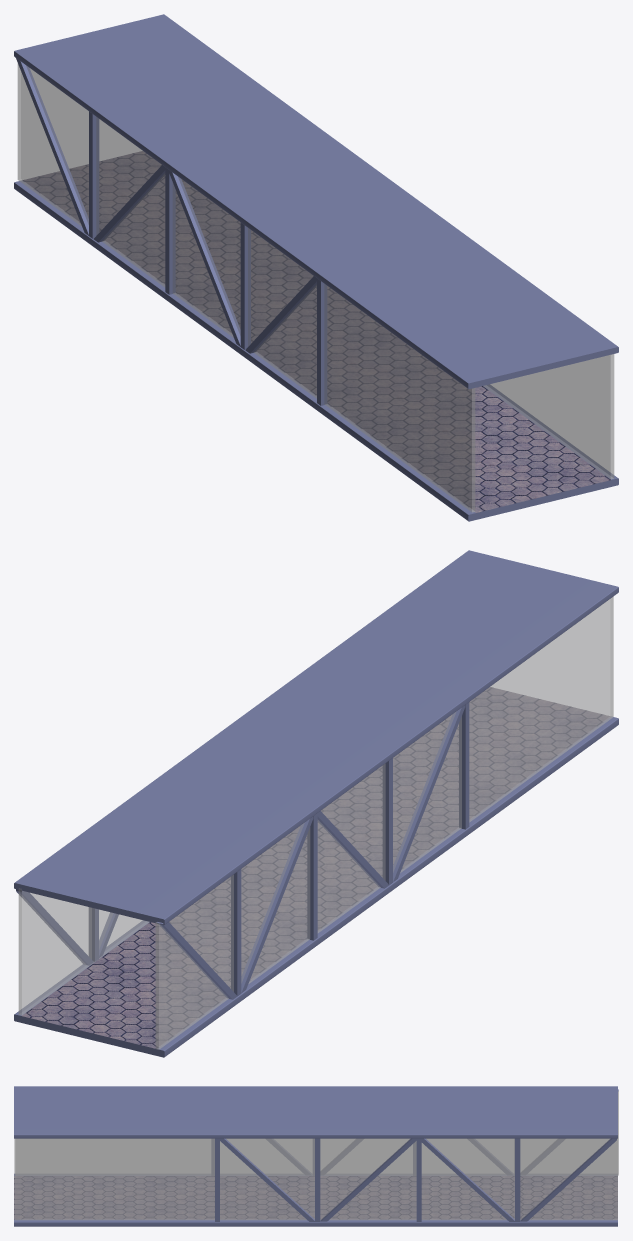
The model's file is Skywalk1.fbx.
The picture shows the model from 3 angles, top to bottom: view 1: azimuth 30°, elevation 25°; view 2: azimuth 150°, elevation 25°; view 3: azimuth 270°, elevation 25°; orthographic projection. The views are drawn at different scales.
Visible parts, largest first — view 1: pCube2, pCube1, pCube23, pCube3, pCube4, pCube25, pCube28, pCube26, pCube5, pCube24, pCube6, pCube27; view 2: pCube2, pCube1, pCube23, pCube3, pCube6, pCube27, pCube5, pCube26, pCube28, pCube24, pCube4, pCube25 (+1 smaller); view 3: pCube3, pCube2, pCube1, pCube23, pCube10, pCube14, pCube8, pCube12, pCube9, pCube11, pCube13, pCube7 (+4 smaller).
Part boxes in pixels (x1,y1,x2,y2): pCube2: [14, 14, 618, 389]; pCube1: [14, 151, 618, 521]; pCube23: [17, 63, 475, 512]; pCube3: [484, 354, 614, 479]; pCube4: [16, 58, 88, 235]; pCube25: [169, 170, 240, 346]; pCube28: [317, 278, 327, 405]; pCube26: [240, 222, 250, 349]; pCube5: [89, 111, 99, 238]; pCube24: [165, 167, 175, 294]; pCube6: [93, 165, 165, 242]; pCube27: [245, 276, 316, 353]; pCube2: [14, 550, 618, 925]; pCube1: [14, 687, 618, 1057]; pCube23: [155, 596, 613, 1049]; pCube3: [18, 888, 148, 1015]; pCube6: [241, 816, 313, 992]; pCube27: [393, 705, 465, 881]; pCube5: [231, 869, 241, 996]; pCube26: [382, 758, 392, 885]; pCube28: [459, 702, 469, 829]; pCube24: [307, 813, 317, 940]; pCube4: [157, 922, 237, 999]; pCube25: [317, 811, 388, 888]; pCube3: [14, 1138, 617, 1220]; pCube2: [14, 1086, 617, 1138]; pCube1: [14, 1173, 617, 1226]; pCube23: [15, 1091, 618, 1175]; pCube10: [320, 1138, 416, 1221]; pCube14: [520, 1138, 616, 1221]; pCube8: [220, 1138, 314, 1221]; pCube12: [421, 1138, 514, 1221]; pCube9: [315, 1138, 320, 1221]; pCube11: [416, 1138, 421, 1221]; pCube13: [515, 1138, 520, 1221]; pCube7: [215, 1138, 219, 1221].
Bounding box in the file's own units: 5.16 × 4.53 × 27.02.
Materials: 3 (1 with a texture image).
